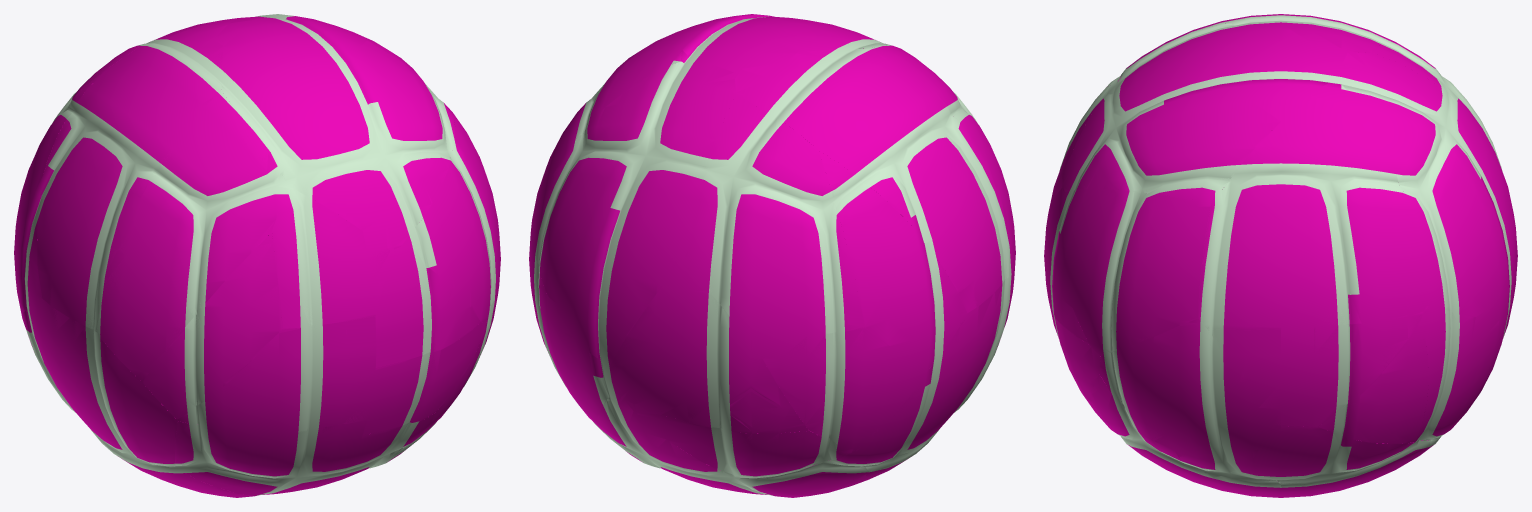
Rendered from voleyboltopupinkkırılan.fbx.
3 renders of one model, left to right at view 1: azimuth 30°, elevation 25°; view 2: azimuth 150°, elevation 25°; view 3: azimuth 270°, elevation 25°, orthographic.
Visible parts, largest first — view 1: Cube, Cube_cell.010, Cube_cell.004, Cube_cell.013, Cube_cell.028, Cube_cell.001, Cube_cell.030, Cube_cell.003, Cube_cell.009, Cube_cell.007, Cube_cell.017, Cube_cell.029 (+4 smaller); view 2: Cube, Cube_cell.011, Cube_cell.002, Cube_cell.031, Cube_cell.013, Cube_cell.017, Cube_cell, Cube_cell.005, Cube_cell.022, Cube_cell.008, Cube_cell.012, Cube_cell.004 (+3 smaller); view 3: Cube, Cube_cell.015, Cube_cell.010, Cube_cell.002, Cube_cell.009, Cube_cell.006, Cube_cell.020, Cube_cell.026, Cube_cell.008, Cube_cell.025, Cube_cell.003, Cube_cell.024 (+5 smaller).
Part boxes in pixels (<box>): Cube: <box>14,15,500,497</box>; Cube_cell.010: <box>221,19,455,249</box>; Cube_cell.004: <box>96,92,286,381</box>; Cube_cell.013: <box>37,24,227,331</box>; Cube_cell.028: <box>272,188,389,328</box>; Cube_cell.001: <box>143,233,282,419</box>; Cube_cell.030: <box>177,316,376,432</box>; Cube_cell.003: <box>344,322,485,434</box>; Cube_cell.009: <box>404,116,500,322</box>; Cube_cell.007: <box>375,266,480,367</box>; Cube_cell.017: <box>14,72,103,312</box>; Cube_cell.029: <box>175,421,345,495</box>; Cube: <box>529,14,1014,497</box>; Cube_cell.011: <box>685,95,865,333</box>; Cube_cell.002: <box>535,62,735,358</box>; Cube_cell.031: <box>609,285,808,433</box>; Cube_cell.013: <box>735,49,1009,312</box>; Cube_cell.017: <box>819,151,967,370</box>; Cube_cell: <box>624,400,854,478</box>; Cube_cell.005: <box>754,328,911,443</box>; Cube_cell.022: <box>596,393,738,486</box>; Cube_cell.008: <box>530,239,609,408</box>; Cube_cell.012: <box>713,451,867,496</box>; Cube_cell.004: <box>867,45,1015,286</box>; Cube: <box>1044,14,1517,497</box>; Cube_cell.015: <box>1198,82,1422,329</box>; Cube_cell.010: <box>1062,23,1328,201</box>; Cube_cell.002: <box>1338,52,1515,319</box>; Cube_cell.009: <box>1058,190,1210,356</box>; Cube_cell.006: <box>1208,311,1423,426</box>; Cube_cell.020: <box>1318,322,1428,443</box>; Cube_cell.026: <box>1250,426,1430,488</box>; Cube_cell.008: <box>1414,306,1506,441</box>; Cube_cell.025: <box>1099,318,1263,477</box>; Cube_cell.003: <box>1046,284,1100,402</box>; Cube_cell.024: <box>1091,374,1213,482</box>.
Bounding box in the file's own units: 68.79 × 68.79 × 68.79.
